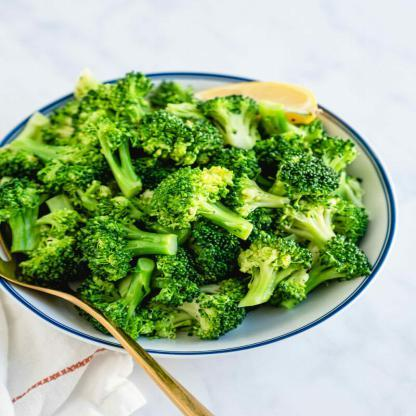broccoli: (0, 66, 377, 341)
